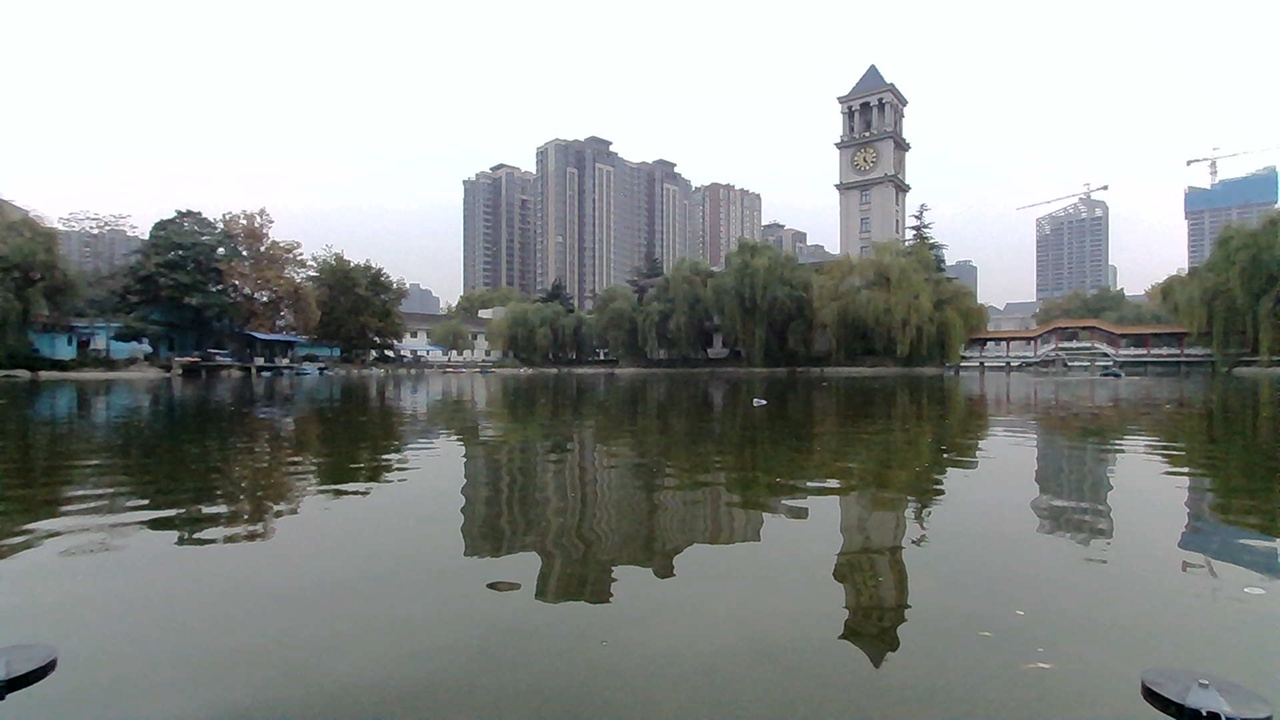bottle: (736, 385, 775, 415)
